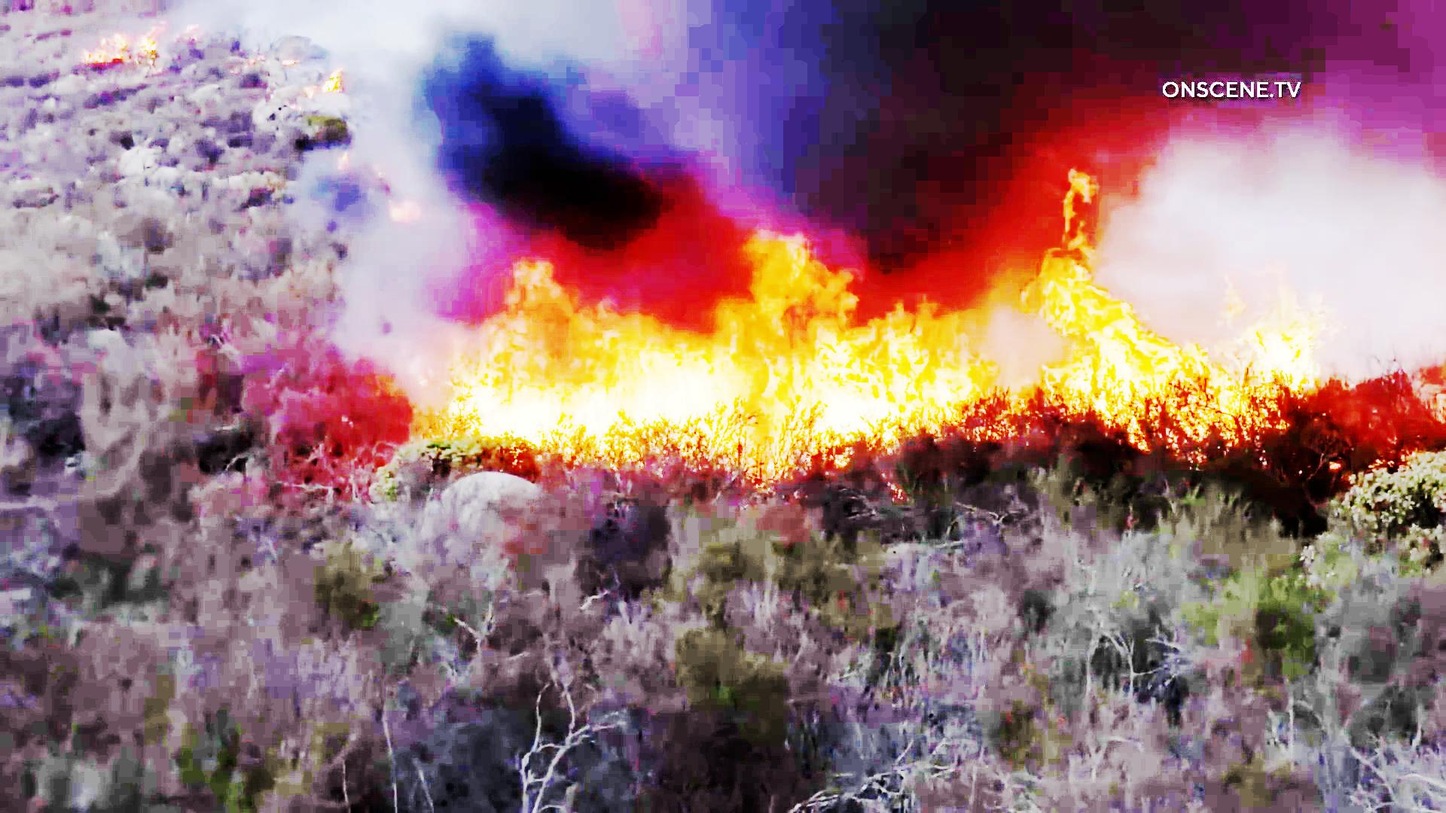fire: (473, 247, 1285, 455)
smoke: (396, 15, 1154, 234)
